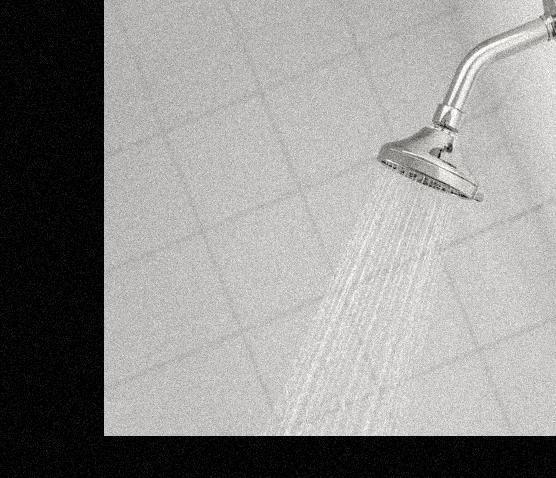Ducha: (104, 0, 556, 435)
